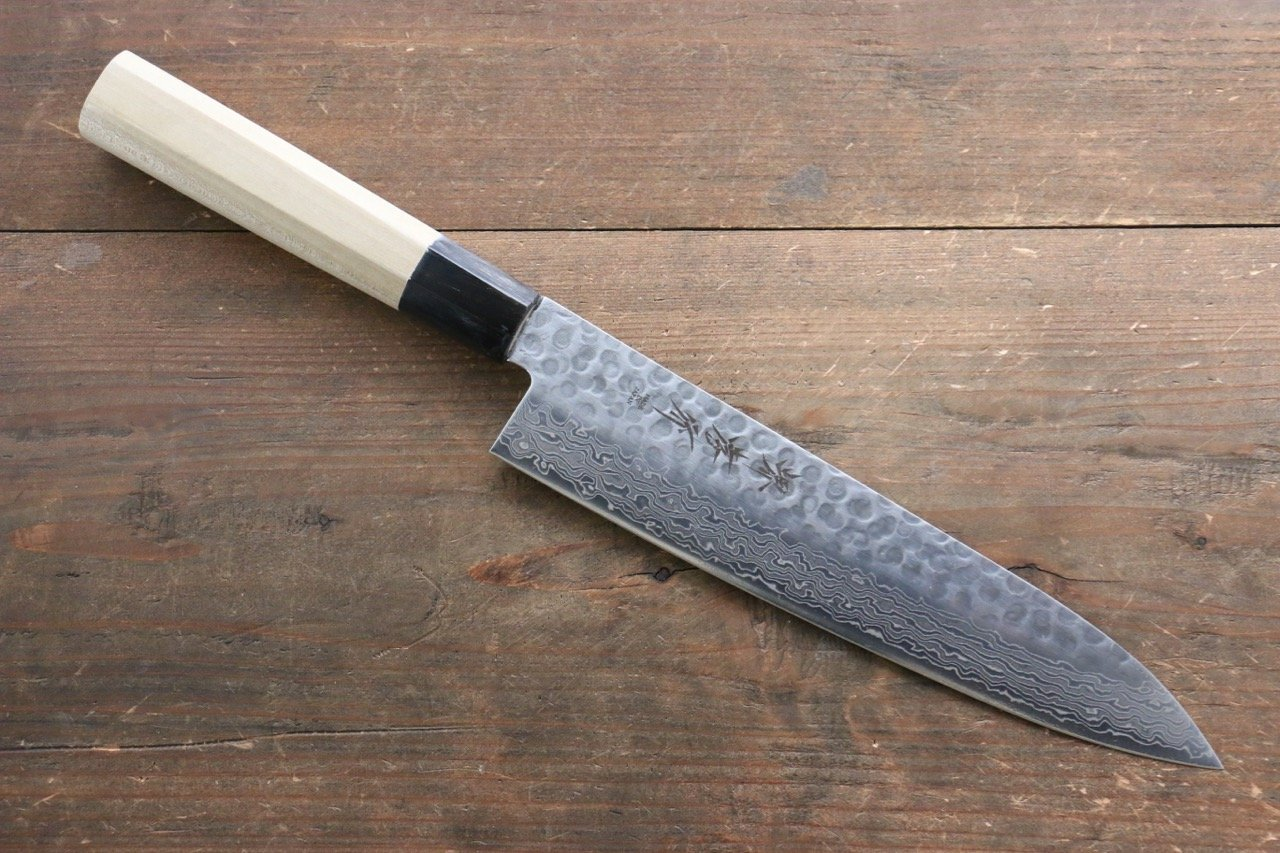knife: (74, 47, 1234, 775)
